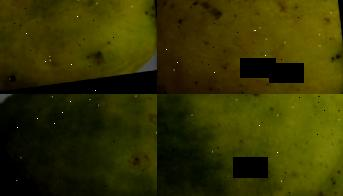PartiallyRipe: (157, 94, 343, 196), (0, 94, 157, 196)
Ripe: (157, 0, 343, 94), (0, 0, 157, 94)
